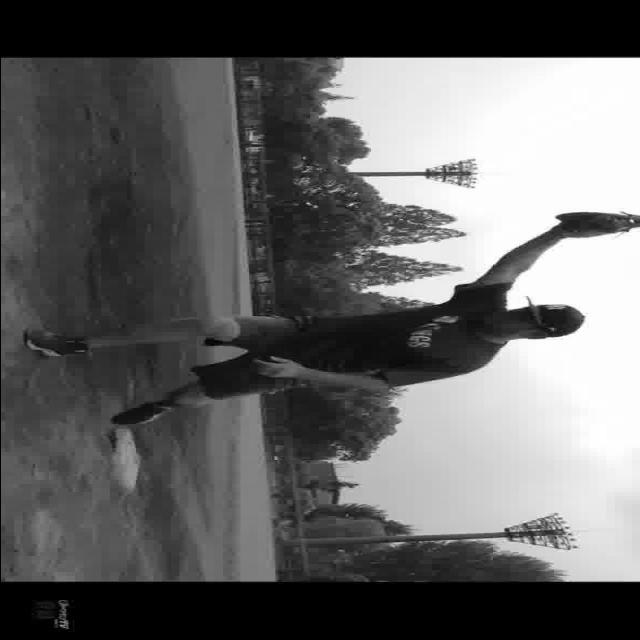base: (111, 428, 139, 496)
baseball_glove: (553, 203, 640, 239)
shoe: (100, 398, 181, 428), (24, 328, 88, 361)
